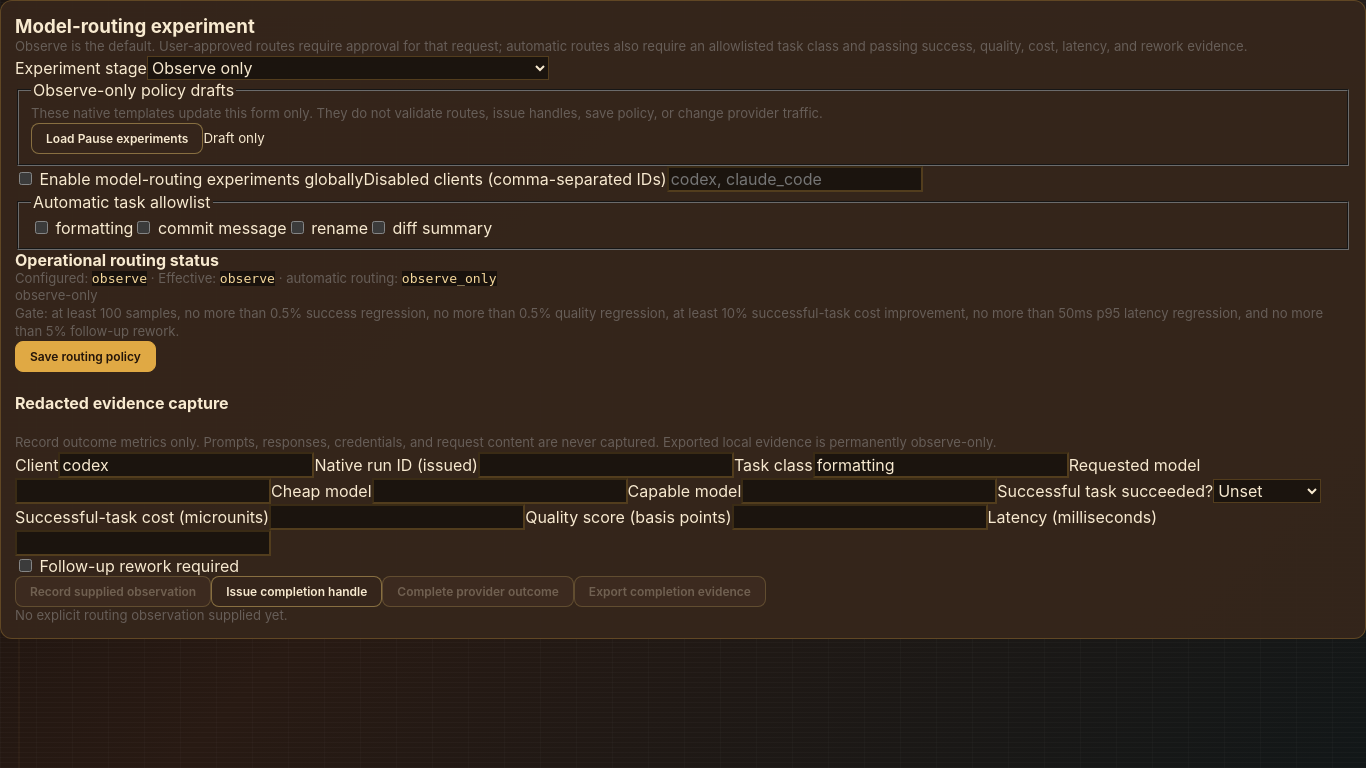
optimization supporting panels › loads a native policy preset as a draft without saving or validating routes
Click the button "Load Pause experiments". click: (117, 138)
box: [31,123,203,154]
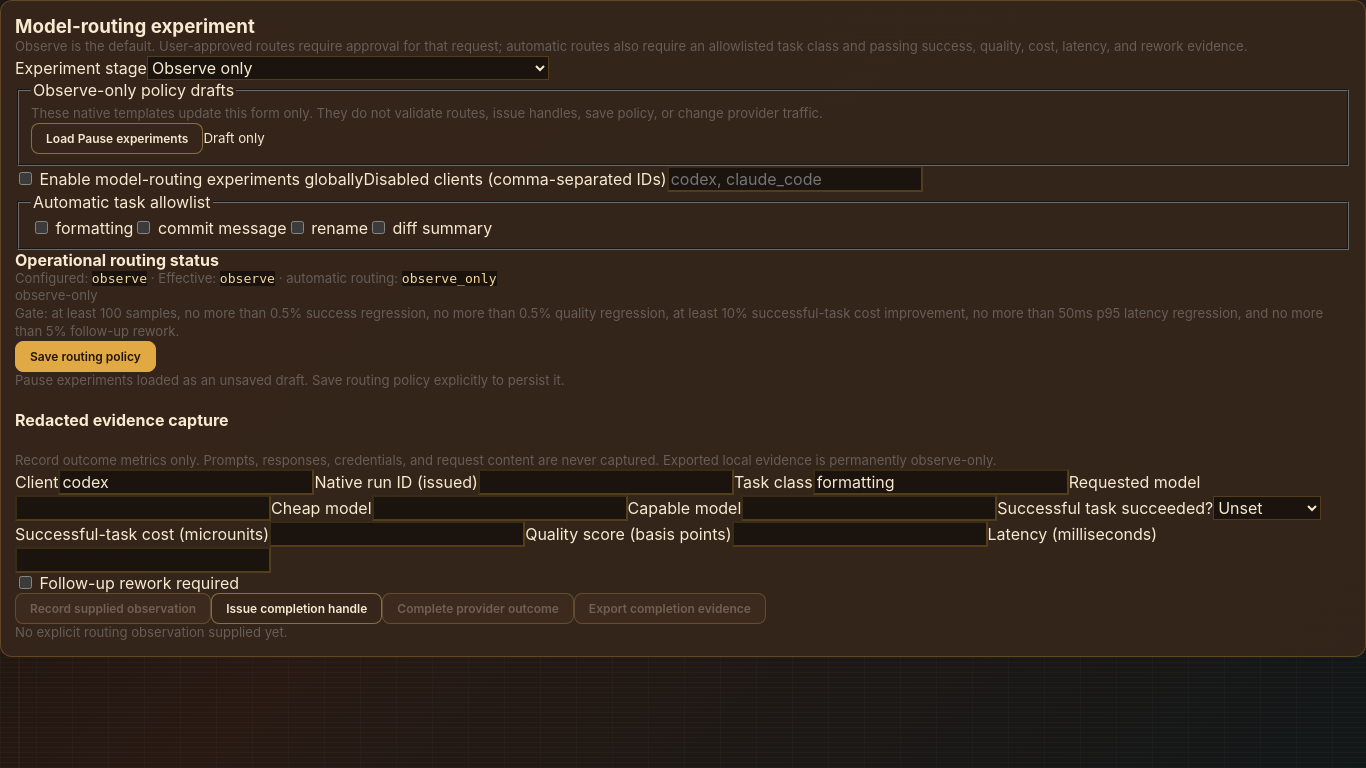
Expected: the text "unsaved draft" is shown, [15,372,564,388]
